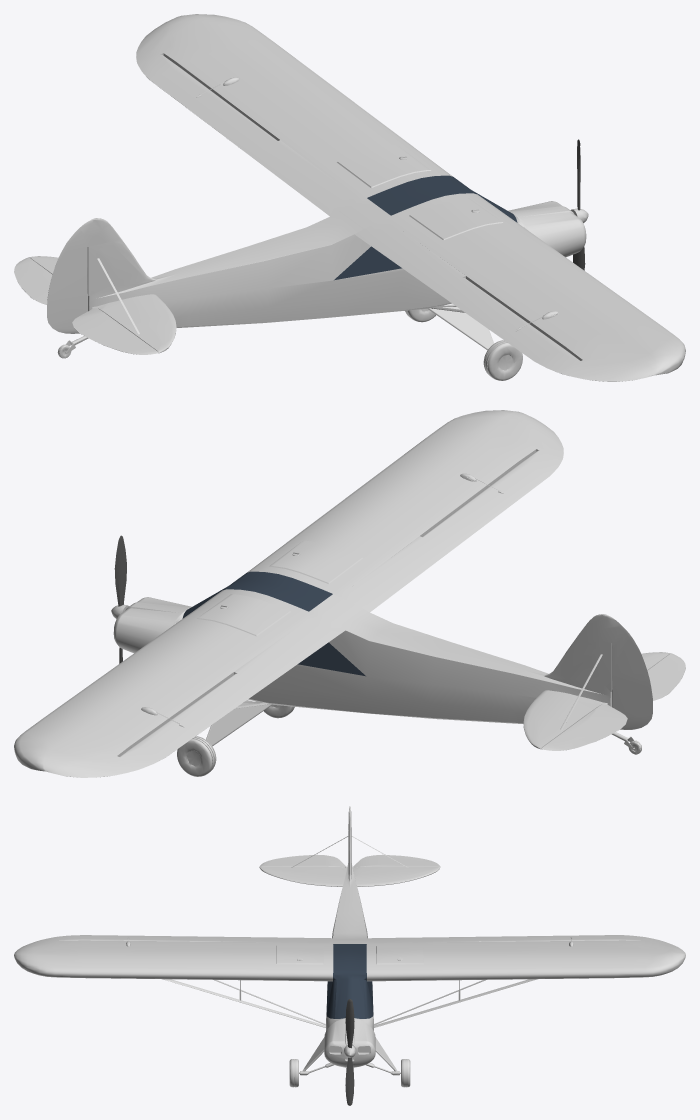
The picture shows the model from 3 angles, top to bottom: view 1: azimuth 30°, elevation 25°; view 2: azimuth 150°, elevation 25°; view 3: azimuth 270°, elevation 25°; orthographic projection. The views are drawn at different scales.
Visible parts, largest first — view 1: body, glass; view 2: body, glass, spin; view 3: body, glass, spin.
Boxes of the visible parts, x1=… form: body: x1=14, y1=14, x2=685, y2=381; glass: x1=334, y1=175, x2=517, y2=280; body: x1=14, y1=410, x2=685, y2=777; glass: x1=182, y1=571, x2=365, y2=676; spin: x1=114, y1=535, x2=126, y2=663; body: x1=14, y1=806, x2=685, y2=1087; glass: x1=326, y1=944, x2=373, y2=1018; spin: x1=345, y1=999, x2=354, y2=1105.
Bounding box in the file's own units: 1.42 × 0.5543 × 2.2.
